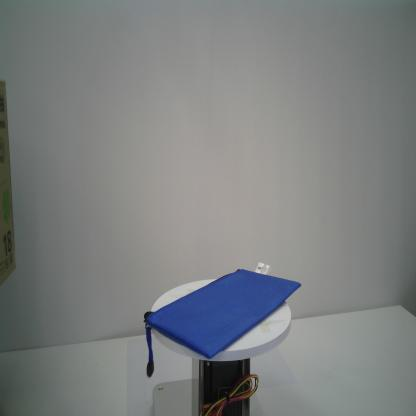Stationery: (142, 260, 303, 380)
